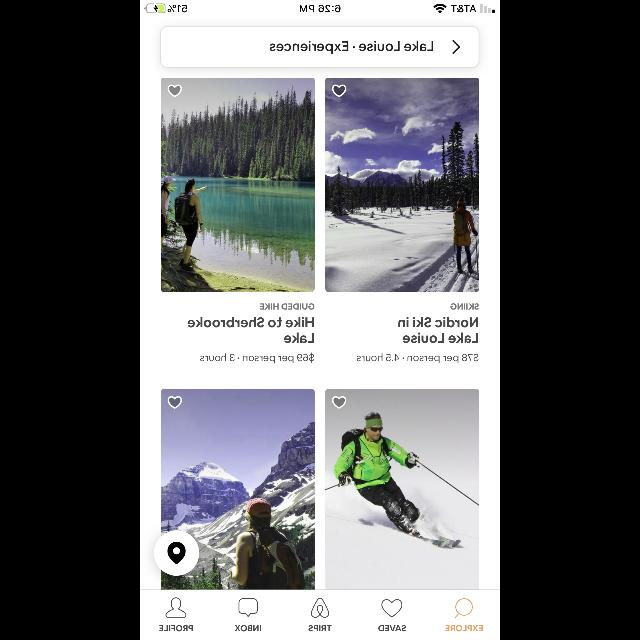icon: (166, 598, 187, 618), (238, 598, 258, 618), (382, 599, 402, 617), (455, 598, 473, 618), (332, 396, 346, 408), (168, 396, 182, 408), (332, 85, 346, 97), (168, 85, 182, 97), (452, 40, 460, 54)
image: (162, 80, 314, 292), (326, 80, 478, 292), (162, 389, 314, 589), (326, 389, 478, 589), (311, 598, 329, 618)
input: (161, 27, 479, 68)
text: (270, 40, 434, 54), (357, 352, 478, 363), (188, 317, 314, 327), (200, 353, 314, 363), (398, 316, 478, 328), (402, 332, 478, 343), (260, 304, 314, 310), (284, 333, 314, 343), (446, 625, 482, 631), (160, 625, 192, 631), (378, 625, 406, 631), (450, 304, 478, 310), (235, 625, 261, 631), (308, 625, 332, 631)
uppertaskbar: (140, 0, 500, 14)
